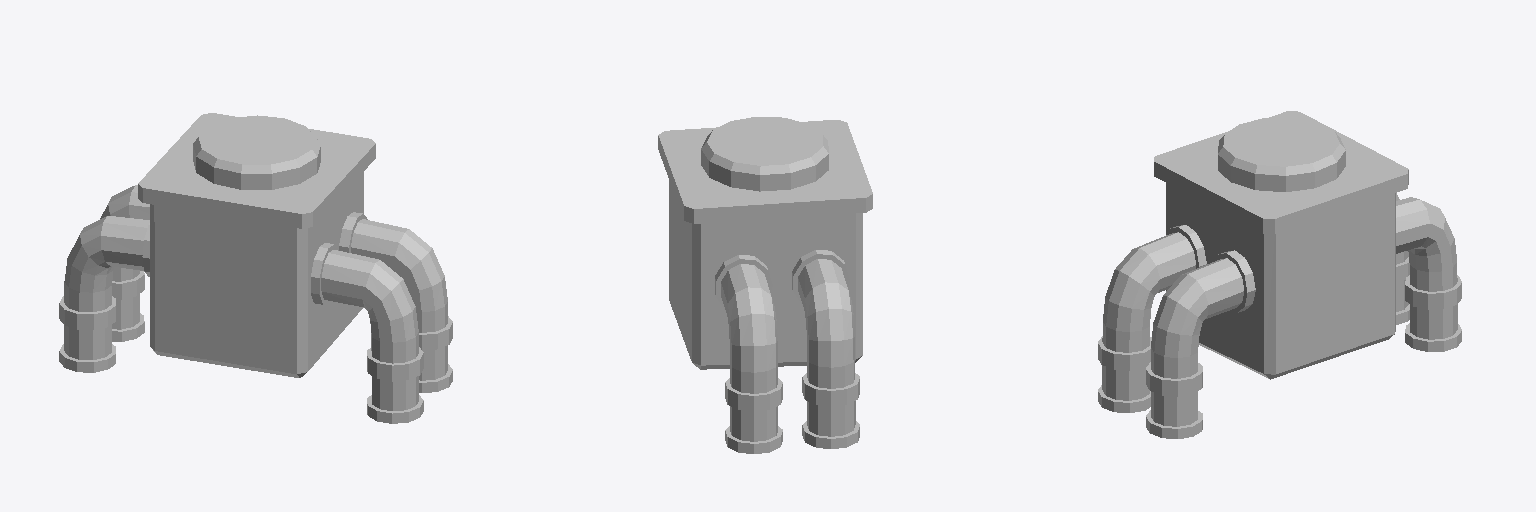
The model's file is cubePipe.obj.
The picture shows the model from 3 angles: view 1: azimuth 30°, elevation 25°; view 2: azimuth 150°, elevation 25°; view 3: azimuth 270°, elevation 25°; orthographic projection.
Visible parts, largest first — view 1: cubepipe; view 2: cubepipe; view 3: cubepipe.
Boxes of the visible parts, <box> form: cubepipe: <box>59,113,452,423</box>; cubepipe: <box>658,117,872,453</box>; cubepipe: <box>1098,111,1461,438</box>.
Bounding box in the file's own units: 5.35 × 4.17 × 6.